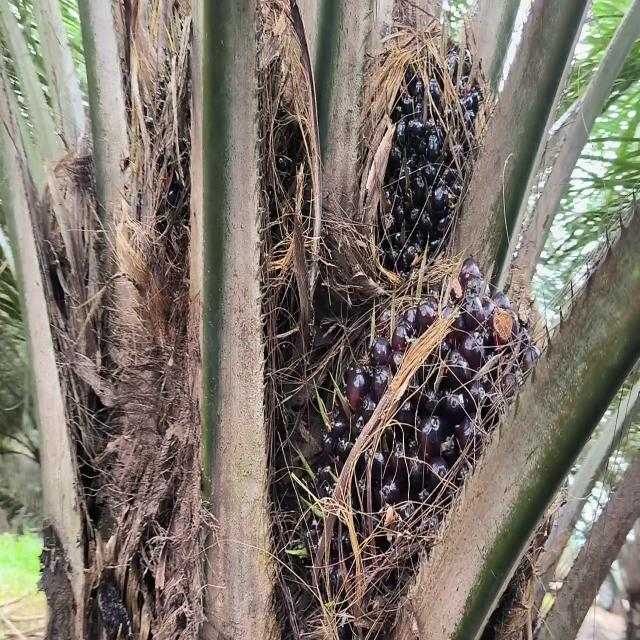palm-oil: (309, 270, 556, 639), (147, 3, 304, 323), (362, 18, 478, 271)
